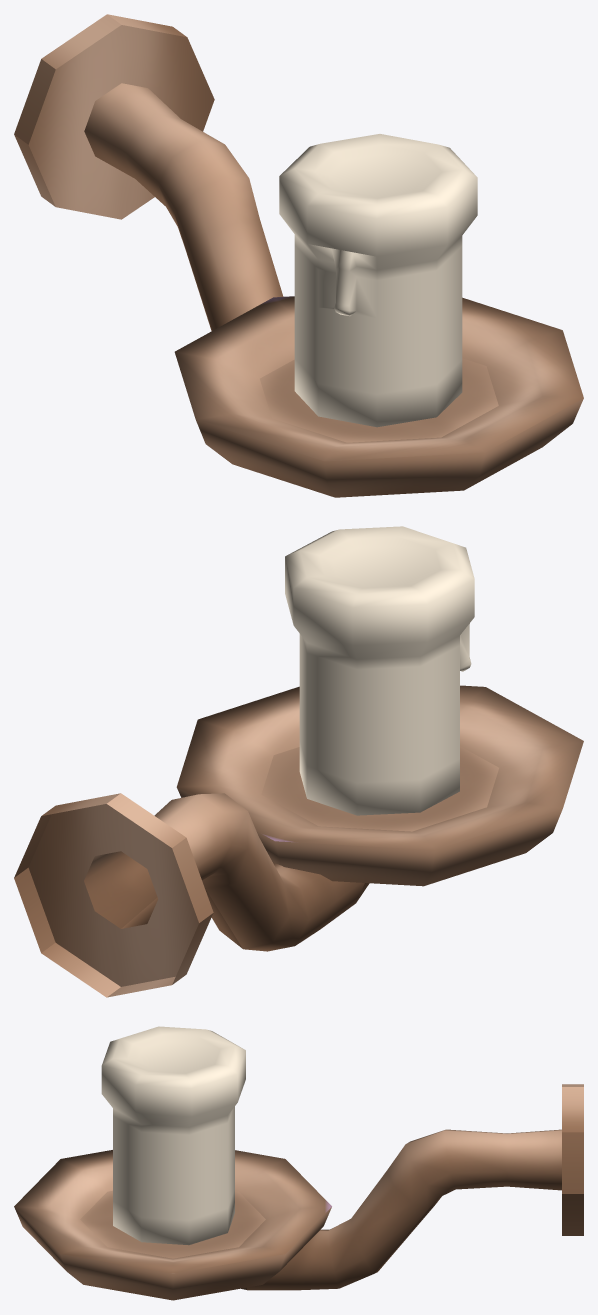
File: candle 1.FBX
3 views of the same model, one above another, from view 1: azimuth 30°, elevation 25°; view 2: azimuth 150°, elevation 25°; view 3: azimuth 270°, elevation 25° (orthographic). The views are drawn at different scales.
Visible parts, largest first — view 1: Object, Object001; view 2: Object, Object001; view 3: Object, Object001.
Part boxes in pixels (x1,y1,x2,y2): Object: [14, 14, 583, 497]; Object001: [279, 134, 477, 427]; Object: [14, 685, 583, 997]; Object001: [285, 526, 474, 815]; Object: [14, 1084, 583, 1300]; Object001: [101, 1026, 245, 1245].
Size of the model in its own units: 32.17 by 26.35 by 57.63.
